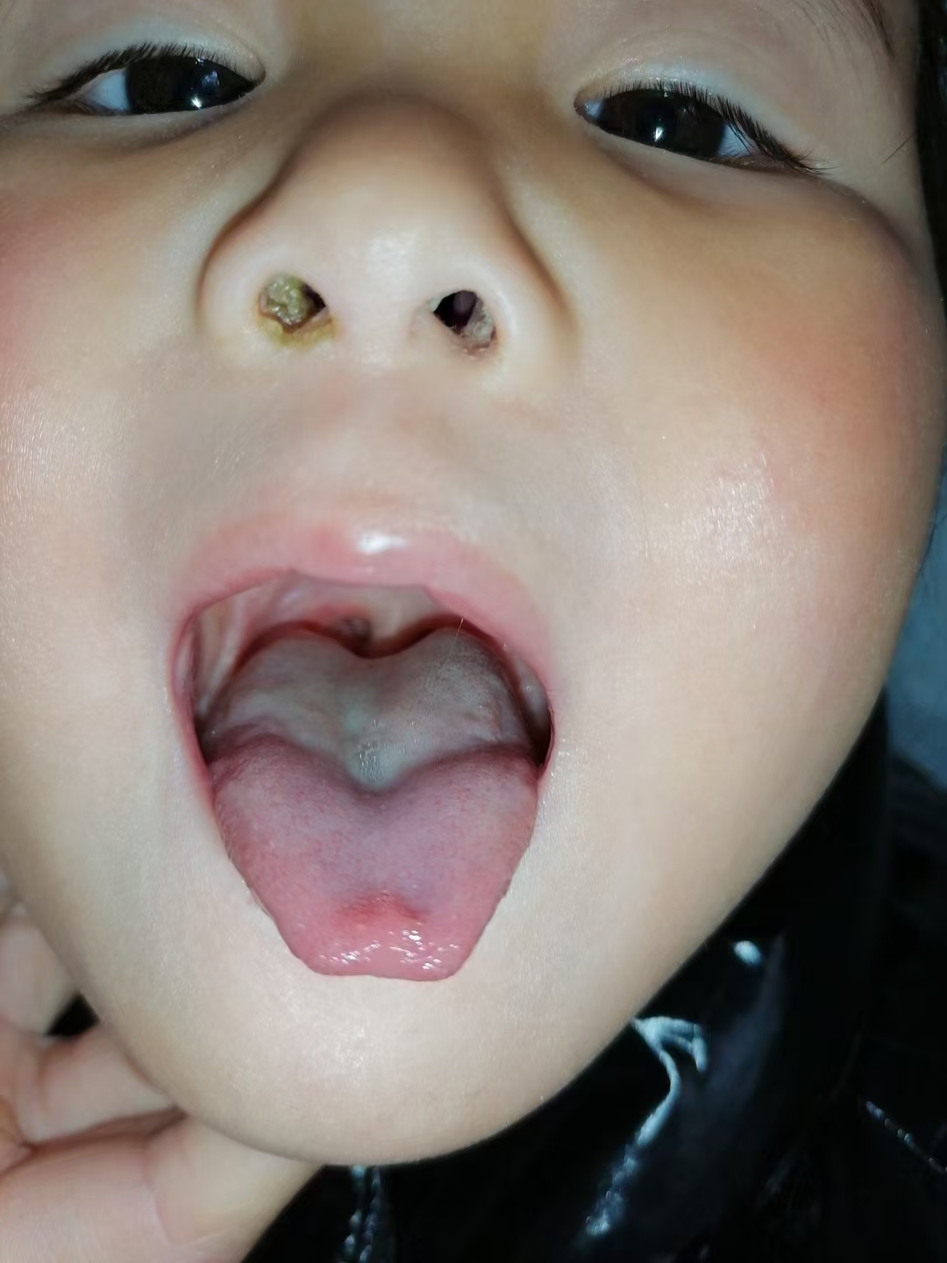baitaishe: (210, 622, 539, 983)
piweiao: (295, 697, 456, 815)
